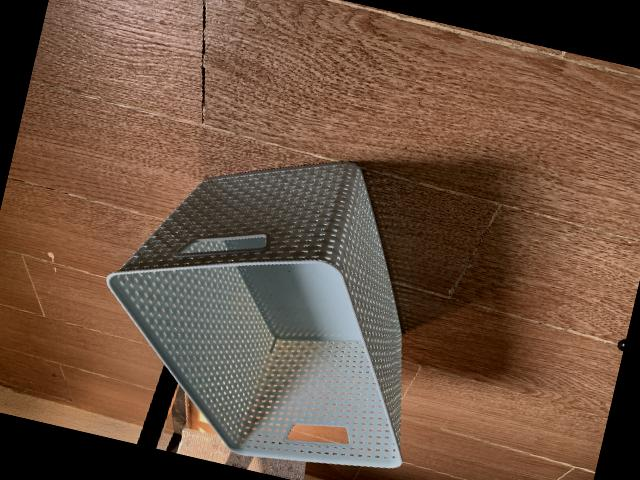cart: (105, 159, 402, 466)
